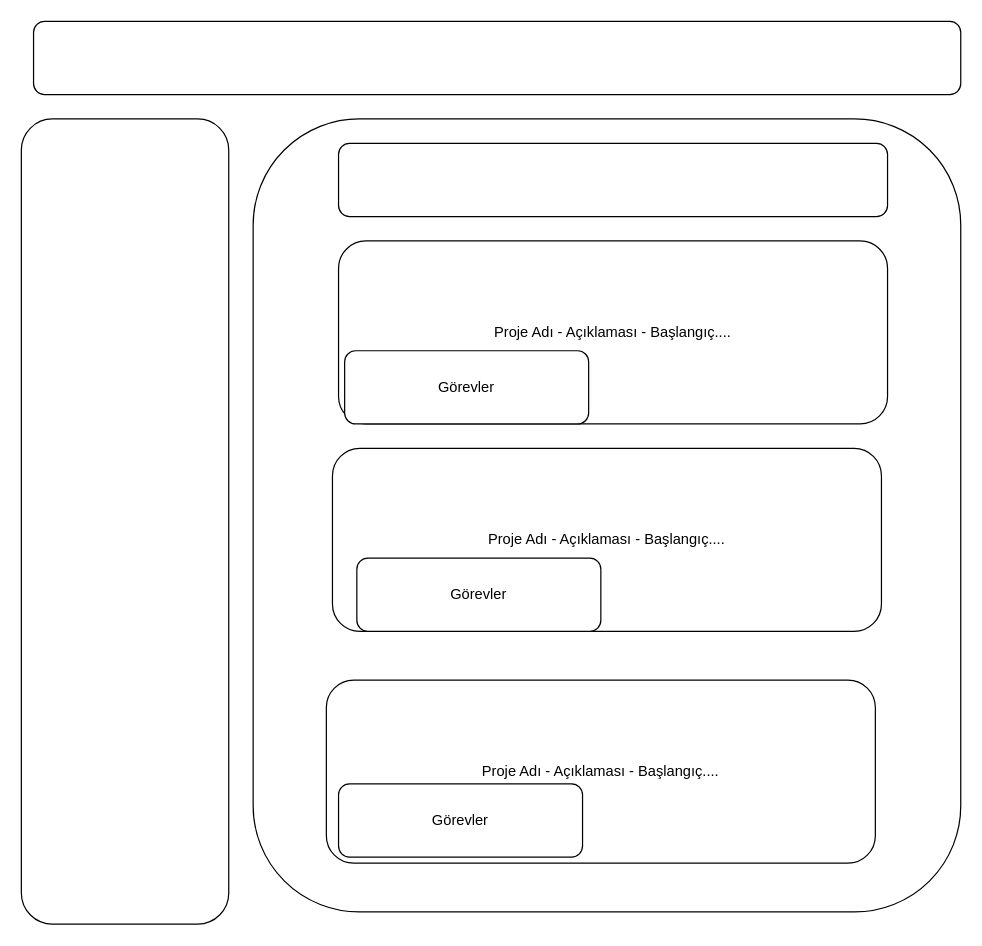
Image size: 982x946. Some labels were removed from this diagram. The centre of each missing label's shape, as x and y in pixels:
Aranacak Proje Adı: the point at 612,179
Departmanlar: the point at 124,521
Header Menu: the point at 496,57
